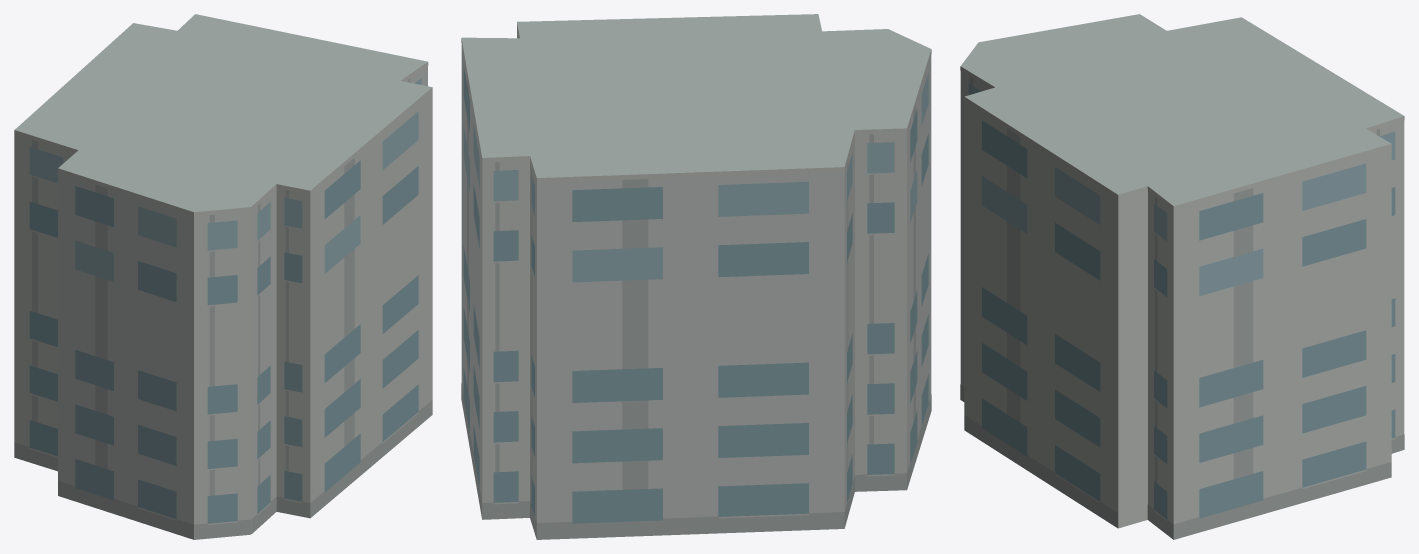
File: survey-upis-32805741.glb
The picture shows the model from 3 angles, left to right: view 1: azimuth 30°, elevation 25°; view 2: azimuth 150°, elevation 25°; view 3: azimuth 270°, elevation 25°; orthographic projection. The views are drawn at different scales.
Parts seen in each view (by area): view 1: survey-upis-32805741.tmp; view 2: survey-upis-32805741.tmp; view 3: survey-upis-32805741.tmp.
Part boxes in pixels (x1,y1,x2,y2): survey-upis-32805741.tmp: [14, 14, 432, 539]; survey-upis-32805741.tmp: [461, 14, 931, 539]; survey-upis-32805741.tmp: [960, 14, 1404, 539].
Size of the model in its own units: 22.62 by 18.3 by 22.08.
